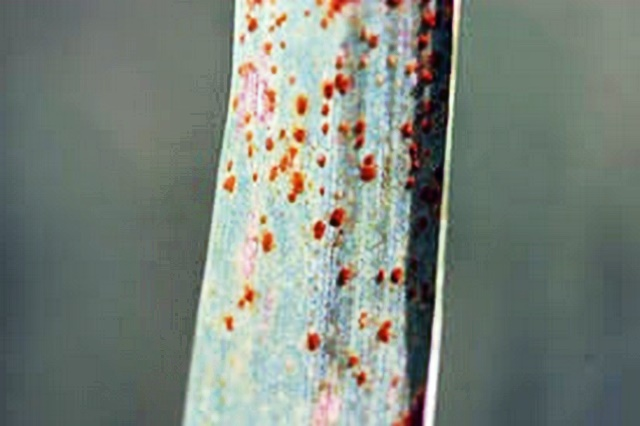Leaf Rust: (235, 13, 431, 344)
